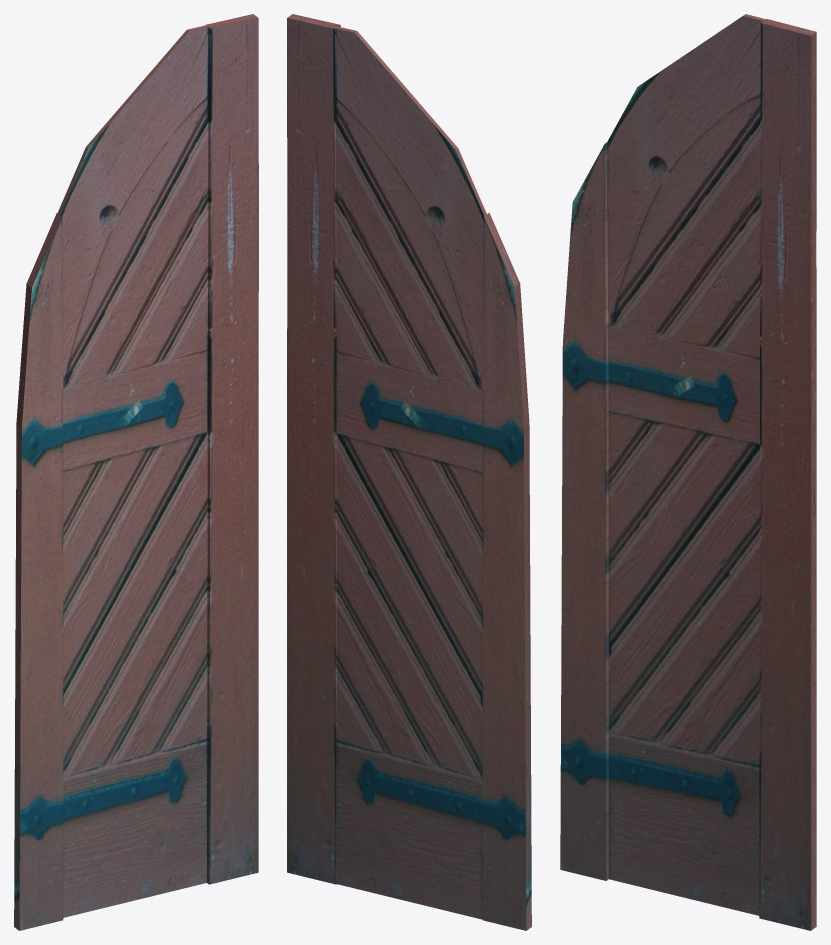
The model's file is gate-small-part-1.fbx.
3 views of the same model, side by side, from view 1: azimuth 30°, elevation 25°; view 2: azimuth 150°, elevation 25°; view 3: azimuth 330°, elevation 25° (orthographic). The views are drawn at different scales.
Visible parts, largest first — view 1: gate-small-part-1; view 2: gate-small-part-1; view 3: gate-small-part-1.
Boxes of the visible parts, <box> form: gate-small-part-1: <box>14,14,258,930</box>; gate-small-part-1: <box>287,14,531,930</box>; gate-small-part-1: <box>560,14,816,930</box>.
Size of the model in its own units: 75.73 by 259 by 3.19.
